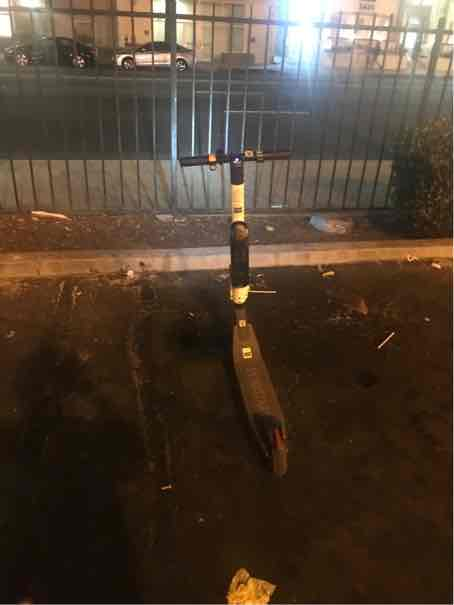scooter: (167, 138, 325, 488)
